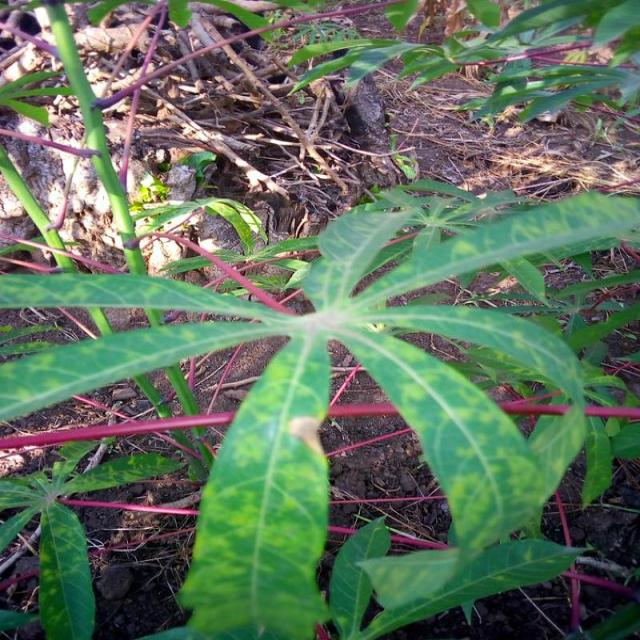cassava leaf: (1, 174, 638, 638), (175, 329, 332, 638)
